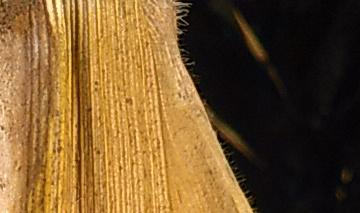tarspot: (12, 159, 23, 172), (34, 117, 42, 134), (207, 168, 216, 182), (123, 96, 134, 107), (55, 145, 64, 157), (5, 23, 14, 34), (1, 177, 7, 192), (85, 106, 96, 114), (116, 164, 123, 176), (1, 26, 8, 37), (94, 148, 103, 156), (92, 79, 100, 87), (1, 14, 9, 22), (144, 39, 150, 49), (56, 137, 62, 146), (175, 90, 181, 99), (1, 122, 6, 132), (73, 122, 78, 131), (93, 86, 99, 93), (1, 37, 7, 44), (192, 145, 199, 151), (1, 21, 7, 26), (1, 9, 7, 14), (6, 3, 11, 9), (1, 1, 5, 8)
